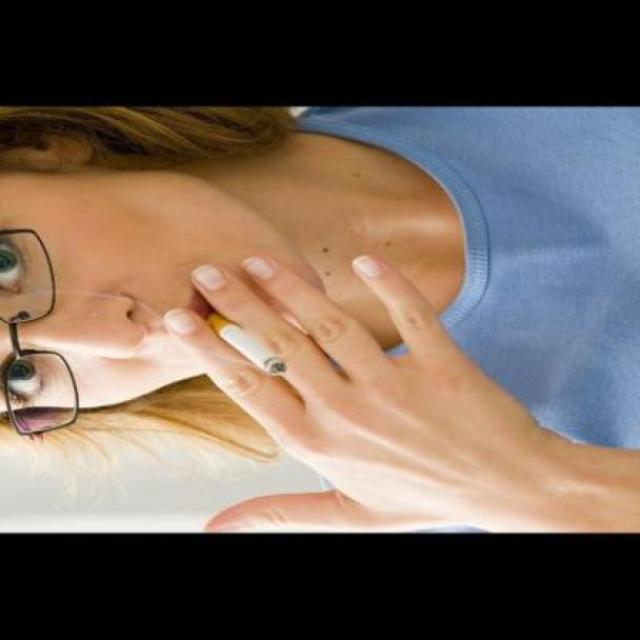rokok: (204, 310, 290, 382)
